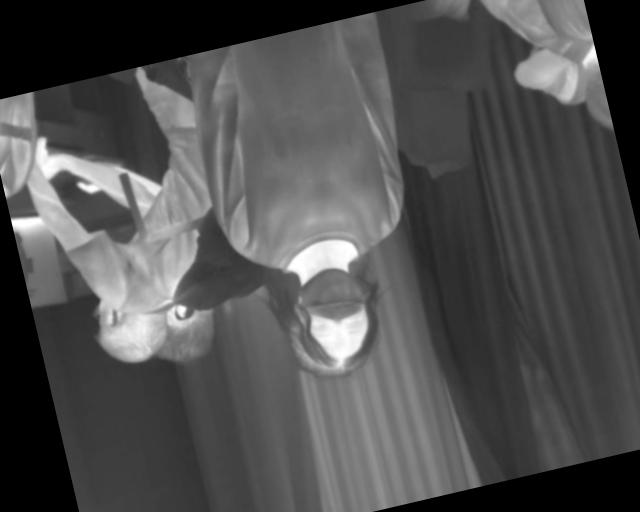face: (274, 260, 389, 387)
